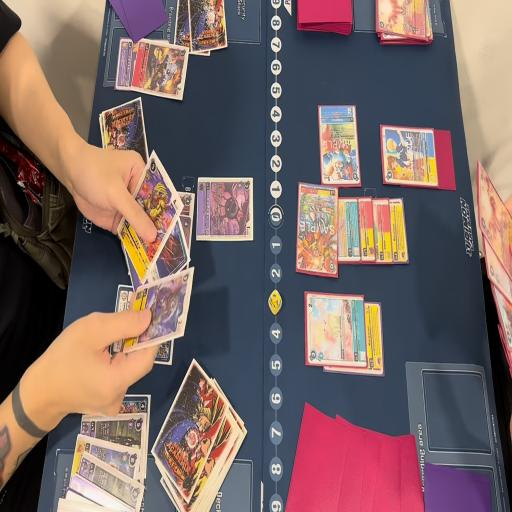card: (115, 160, 187, 286), (123, 266, 199, 360), (106, 282, 176, 370), (124, 206, 190, 298), (79, 409, 149, 478), (304, 292, 366, 368), (195, 174, 259, 242), (76, 432, 142, 497), (294, 184, 341, 275), (78, 450, 146, 512), (130, 40, 191, 99), (381, 125, 439, 186), (319, 103, 360, 186), (374, 0, 427, 39), (362, 298, 387, 380), (336, 198, 361, 266), (388, 194, 410, 270), (113, 38, 142, 92), (360, 196, 376, 271), (374, 195, 390, 269), (117, 394, 154, 418)
